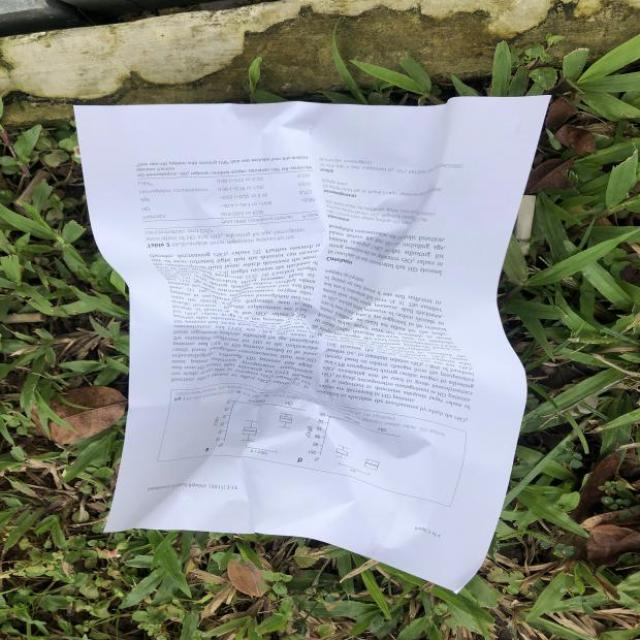kertas: (75, 96, 560, 599)
